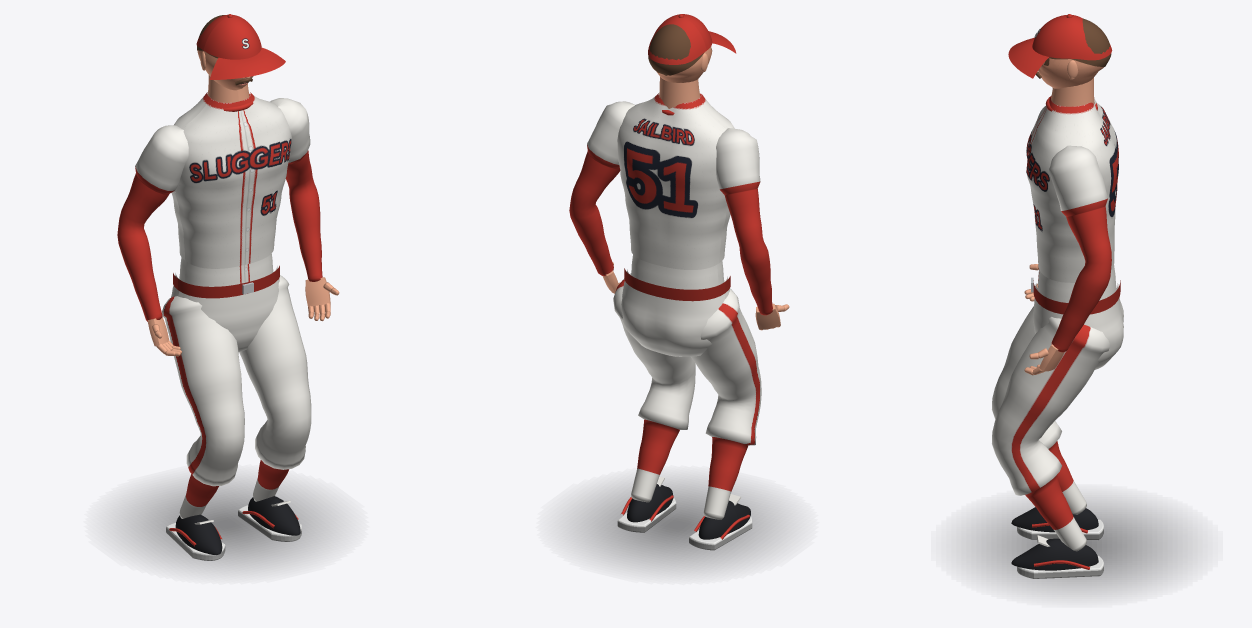
File: player_04_home.glb
3 renders of one model, left to right at view 1: azimuth 30°, elevation 25°; view 2: azimuth 150°, elevation 25°; view 3: azimuth 270°, elevation 25°, orthographic. The views are drawn at different scales.
Visible parts, largest first — view 1: player_04_home, object 31, object 33, object 2; view 2: player_04_home, object 29, object 31, object 2, object 35; view 3: player_04_home, object 31, object 35, object 33, object 29, object 2.
Part boxes in pixels (bbox=[...]): player_04_home: bbox=[117, 92, 334, 570]; object 31: bbox=[196, 14, 261, 59]; object 33: bbox=[209, 47, 285, 79]; object 2: bbox=[207, 75, 249, 102]; player_04_home: bbox=[569, 93, 785, 570]; object 29: bbox=[648, 24, 704, 75]; object 31: bbox=[648, 14, 712, 64]; object 2: bbox=[659, 77, 700, 108]; object 35: bbox=[652, 46, 712, 82]; player_04_home: bbox=[966, 95, 1187, 592]; object 31: bbox=[1032, 14, 1112, 60]; object 35: bbox=[1038, 58, 1103, 88]; object 33: bbox=[1008, 37, 1049, 78]; object 29: bbox=[1049, 18, 1111, 66]; object 2: bbox=[1051, 77, 1094, 106].
Bounding box in the file's own units: 3.37 × 6.23 × 3.37.
27 materials, 5 textured.
